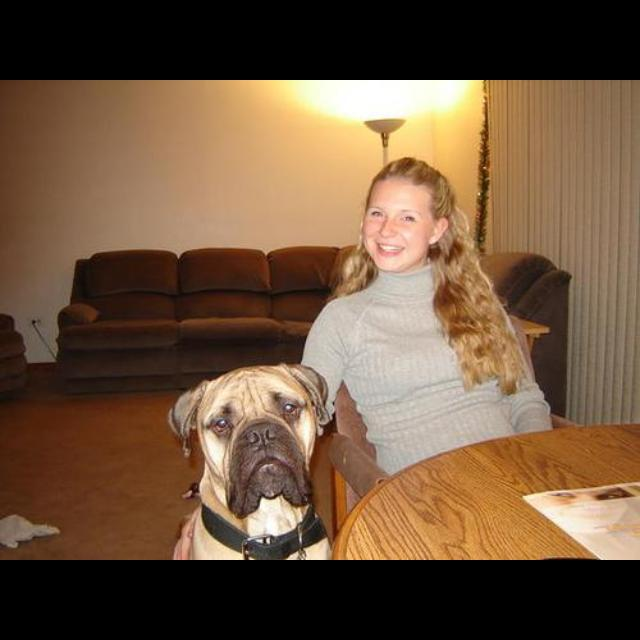bullmastiff: (167, 363, 335, 560)
face: (364, 180, 433, 272)
person: (297, 156, 555, 478)
